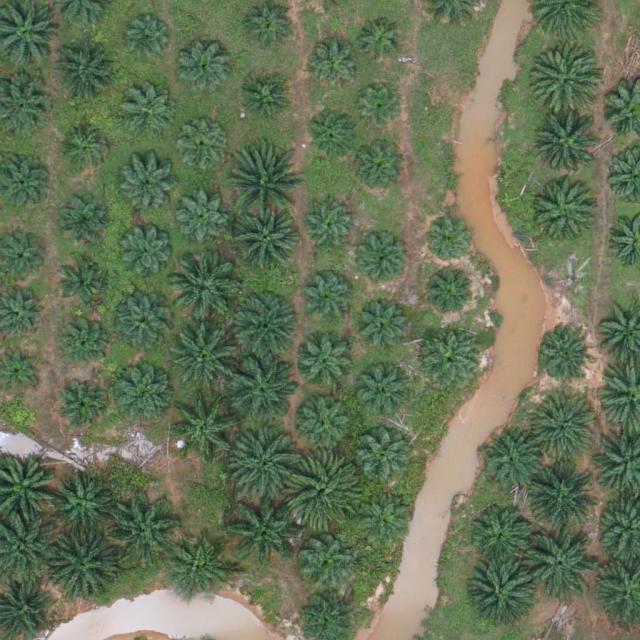Healthy: (465, 561, 536, 632), (46, 531, 117, 602), (231, 150, 302, 221), (229, 351, 300, 422), (227, 494, 297, 565), (109, 494, 179, 565), (528, 460, 598, 531), (529, 392, 599, 463), (534, 111, 604, 182), (227, 290, 297, 361), (234, 431, 304, 502), (172, 392, 242, 463), (172, 324, 242, 395), (169, 254, 239, 325), (47, 41, 117, 112), (523, 529, 593, 599), (530, 43, 600, 113), (289, 455, 359, 525), (230, 209, 300, 279), (419, 325, 482, 388), (112, 296, 175, 359), (50, 472, 113, 535), (470, 505, 532, 568), (536, 179, 598, 242), (295, 392, 358, 454), (352, 363, 414, 426), (112, 362, 174, 425), (482, 430, 544, 493), (169, 540, 231, 602), (298, 332, 360, 394), (306, 35, 361, 91), (298, 531, 353, 586), (235, 73, 290, 128), (305, 108, 360, 163), (350, 140, 405, 195), (423, 264, 478, 319), (359, 491, 414, 546), (357, 433, 412, 488), (302, 271, 357, 326), (354, 295, 409, 350), (120, 163, 175, 218), (120, 226, 175, 281), (57, 381, 112, 436), (55, 312, 110, 367), (60, 251, 115, 306), (55, 191, 110, 246), (58, 120, 113, 175), (177, 40, 232, 95), (176, 121, 231, 176), (175, 191, 230, 246), (537, 326, 591, 381), (301, 200, 355, 255), (357, 236, 411, 291), (122, 86, 176, 141)
Small: (357, 85, 404, 133), (426, 218, 473, 266), (124, 17, 171, 64), (359, 20, 406, 67)
